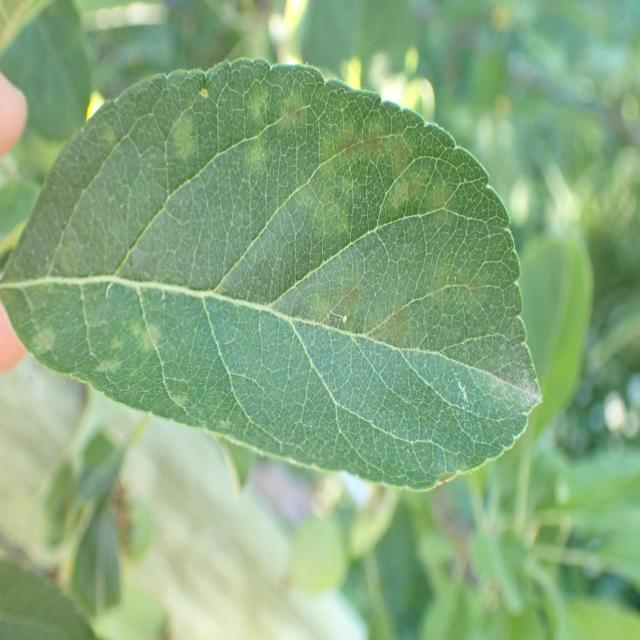scab: (47, 91, 510, 469)
